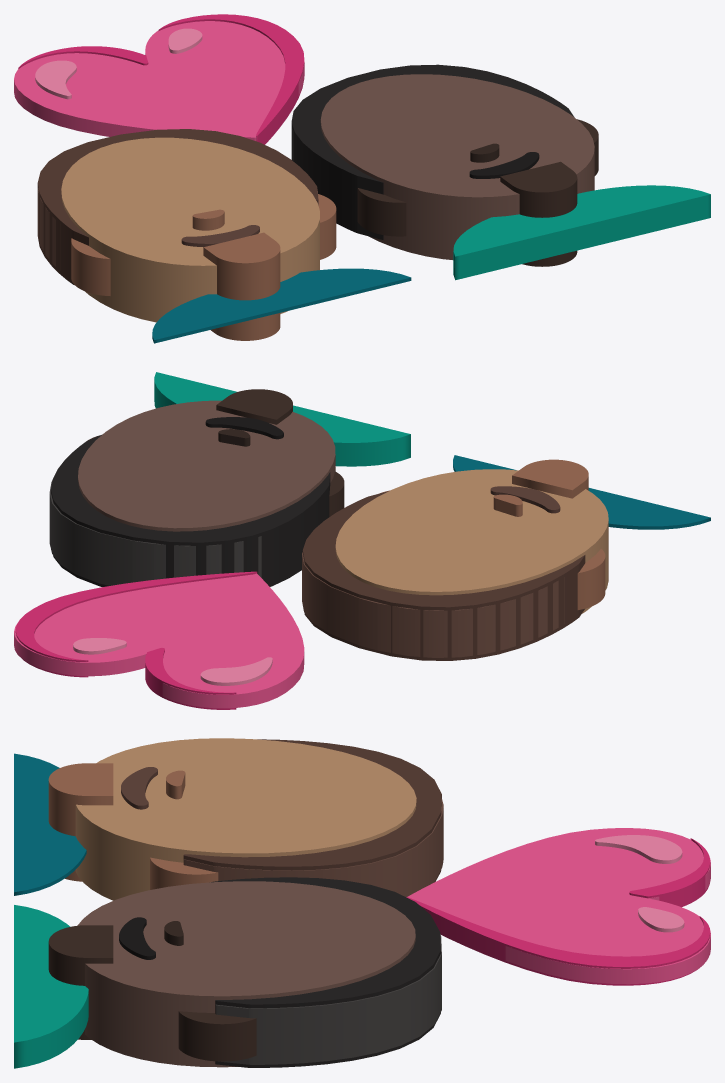
File: emoji_u1f468_1f3fd_200d_2764_200d_1f468_1f3ff.glb
3 views of the same model, one above another, from view 1: azimuth 30°, elevation 25°; view 2: azimuth 150°, elevation 25°; view 3: azimuth 270°, elevation 25° (orthographic). The views are drawn at different scales.
Visible parts, largest first — view 1: emoji_u1f468_1f3fd_200d_2764_200d_1f468_1f3ff; view 2: emoji_u1f468_1f3fd_200d_2764_200d_1f468_1f3ff; view 3: emoji_u1f468_1f3fd_200d_2764_200d_1f468_1f3ff.
Part boxes in pixels (x1,y1,x2,y2): emoji_u1f468_1f3fd_200d_2764_200d_1f468_1f3ff: (14,14,710,343); emoji_u1f468_1f3fd_200d_2764_200d_1f468_1f3ff: (14,372,710,709); emoji_u1f468_1f3fd_200d_2764_200d_1f468_1f3ff: (14,738,710,1068).
Size of the model in its own units: 0.0345 by 0.005 by 0.0338.
